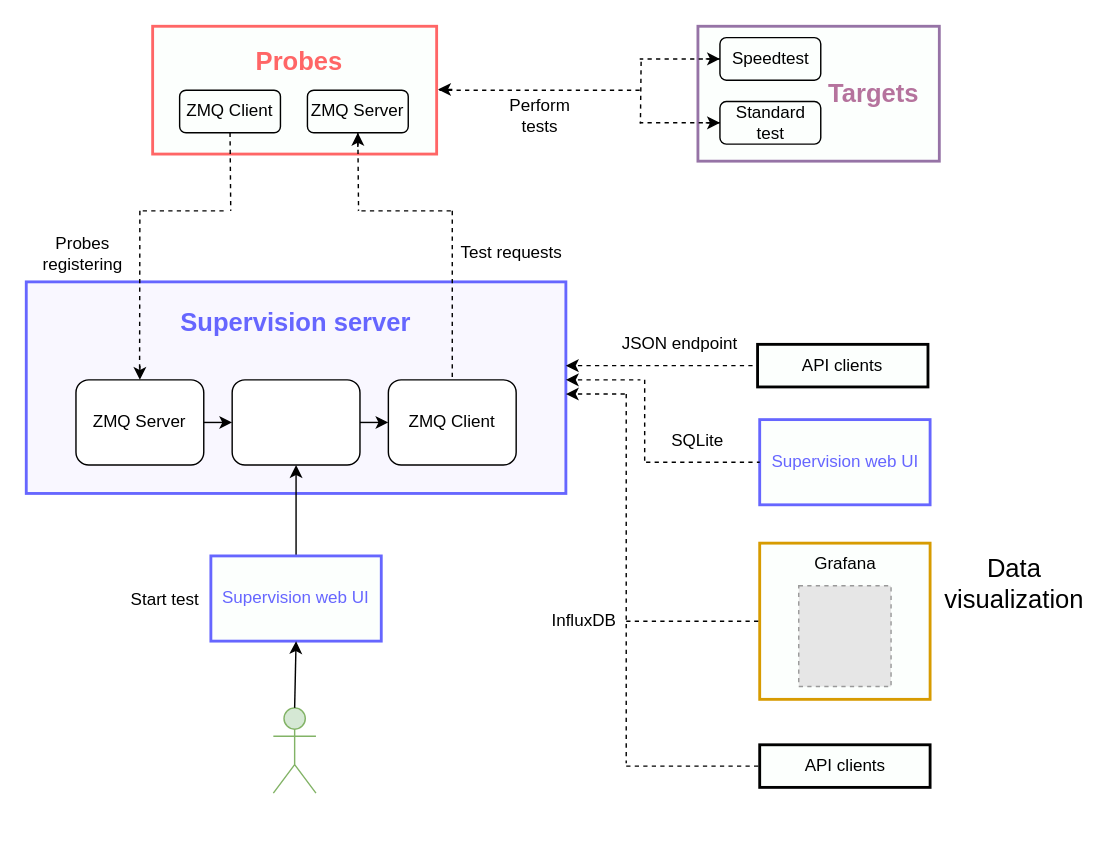
The diagram is 1108 pixels wide and 846 high, and some of its shapes have lost their labels. Grey dashed boxes stand in for pictures. Here are the shapes that lost their labels. From the top down, the centre of each, then its label:
At point 295,421: "HTTP server".
At point 294,749: "Users".
